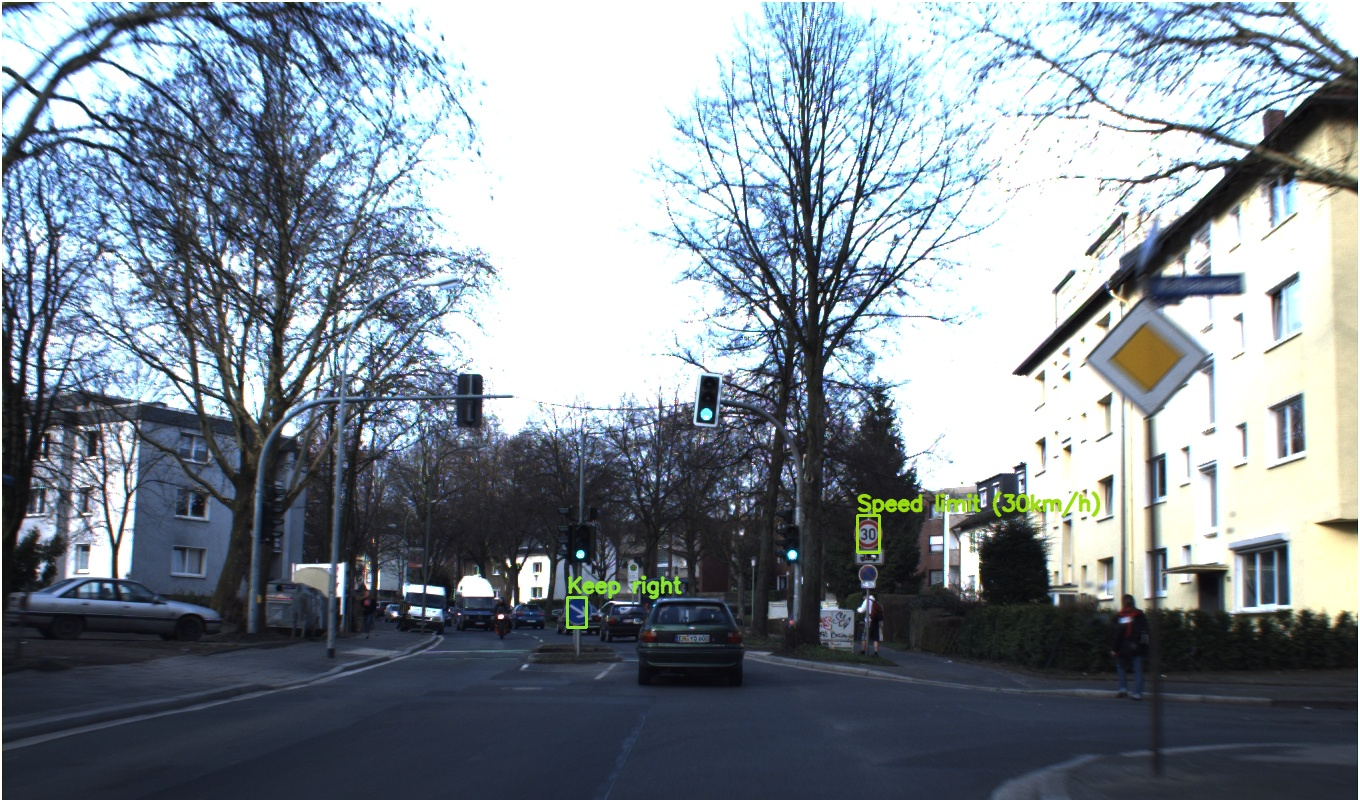Keep right: (425, 386, 468, 431)
